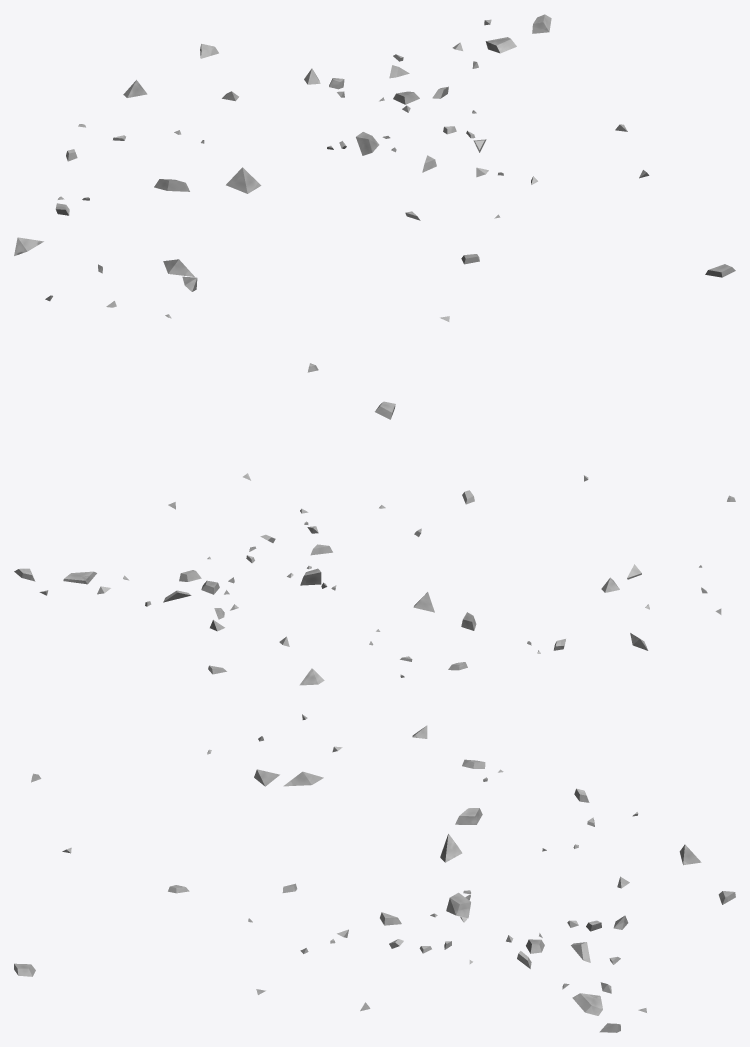
File: sculpted_gravel_01.glb
The picture shows the model from 3 angles, top to bottom: view 1: azimuth 30°, elevation 25°; view 2: azimuth 150°, elevation 25°; view 3: azimuth 270°, elevation 25°; orthographic projection. The views are drawn at different scales.
Visible parts, largest first — view 1: sculpted_gravel_01; view 2: sculpted_gravel_01; view 3: sculpted_gravel_01.
Part boxes in pixels (x1,y1,x2,y2): sculpted_gravel_01: [14, 14, 735, 372]; sculpted_gravel_01: [14, 401, 735, 685]; sculpted_gravel_01: [14, 714, 735, 1032].
Bounding box in the file's own units: 2.95 × 0.102 × 2.83.
Materials: 1 (1 with a texture image).
